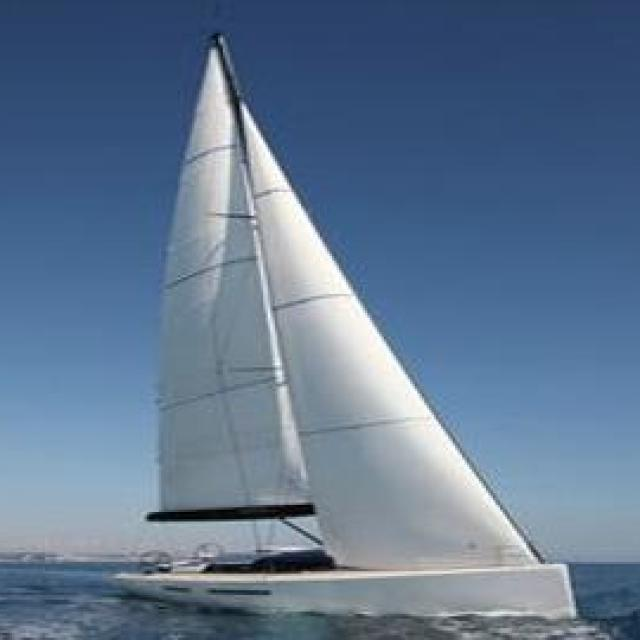sailboat: (112, 32, 578, 610)
